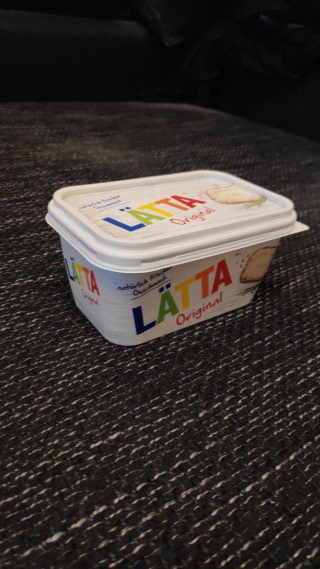laetta: (44, 167, 311, 346)
